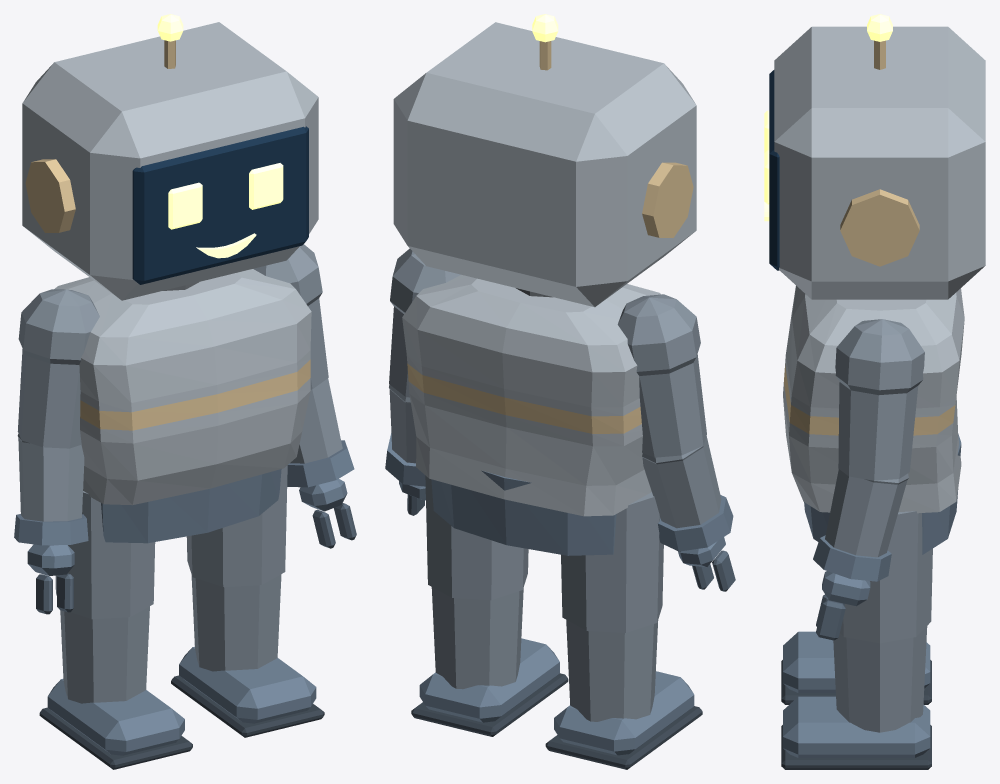
File: rin-k3.glb
The picture shows the model from 3 angles, left to right: view 1: azimuth 30°, elevation 25°; view 2: azimuth 150°, elevation 25°; view 3: azimuth 270°, elevation 25°; orthographic projection. The views are drawn at different scales.
Visible parts, largest first — view 1: torso, kopf, gesicht, arm_r, bein_r, bein_l, schuh_r, schuh_l, becken, arm_l, hand_r, hand_l; view 2: kopf, torso, bein_r, arm_r, bein_l, becken, schuh_l, schuh_r, arm_l, gesicht, hand_r; view 3: kopf, torso, arm_l, bein_l, schuh_l, gesicht, schuh_r, hand_l, becken.
Boxes of the visible parts, x1,y1,x2,y2 form: torso: [54, 269, 311, 505]; kopf: [22, 22, 318, 300]; gesicht: [25, 14, 308, 284]; arm_r: [14, 289, 99, 545]; bein_r: [55, 491, 155, 703]; bein_l: [186, 465, 287, 671]; schuh_r: [39, 679, 192, 769]; schuh_l: [171, 646, 324, 737]; becken: [101, 469, 281, 543]; arm_l: [253, 244, 354, 487]; hand_r: [27, 544, 74, 614]; hand_l: [299, 479, 356, 548]; kopf: [393, 22, 696, 307]; torso: [402, 274, 661, 516]; bein_r: [561, 492, 663, 721]; arm_r: [617, 294, 733, 551]; bein_l: [425, 475, 528, 689]; becken: [431, 470, 616, 555]; schuh_l: [411, 638, 568, 736]; schuh_r: [545, 671, 702, 769]; arm_l: [385, 248, 460, 486]; gesicht: [532, 14, 693, 237]; hand_r: [678, 537, 735, 591]; kopf: [774, 26, 985, 299]; torso: [783, 285, 964, 513]; arm_l: [813, 319, 924, 581]; bein_l: [833, 511, 932, 732]; schuh_l: [781, 696, 931, 769]; gesicht: [764, 14, 919, 270]; schuh_r: [781, 631, 931, 704]; hand_l: [816, 571, 870, 640]; becken: [804, 434, 961, 554].
Bounding box in the file's own units: 0.0113 × 0.0225 × 0.00641.
